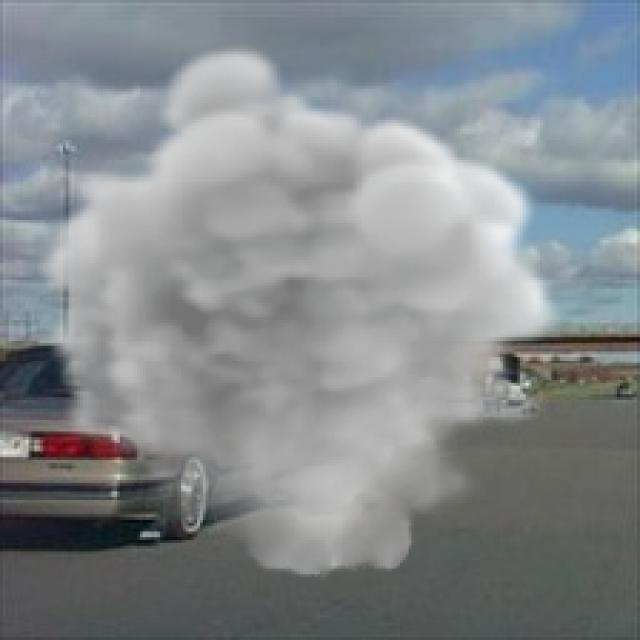Smoke: (37, 40, 563, 580)
